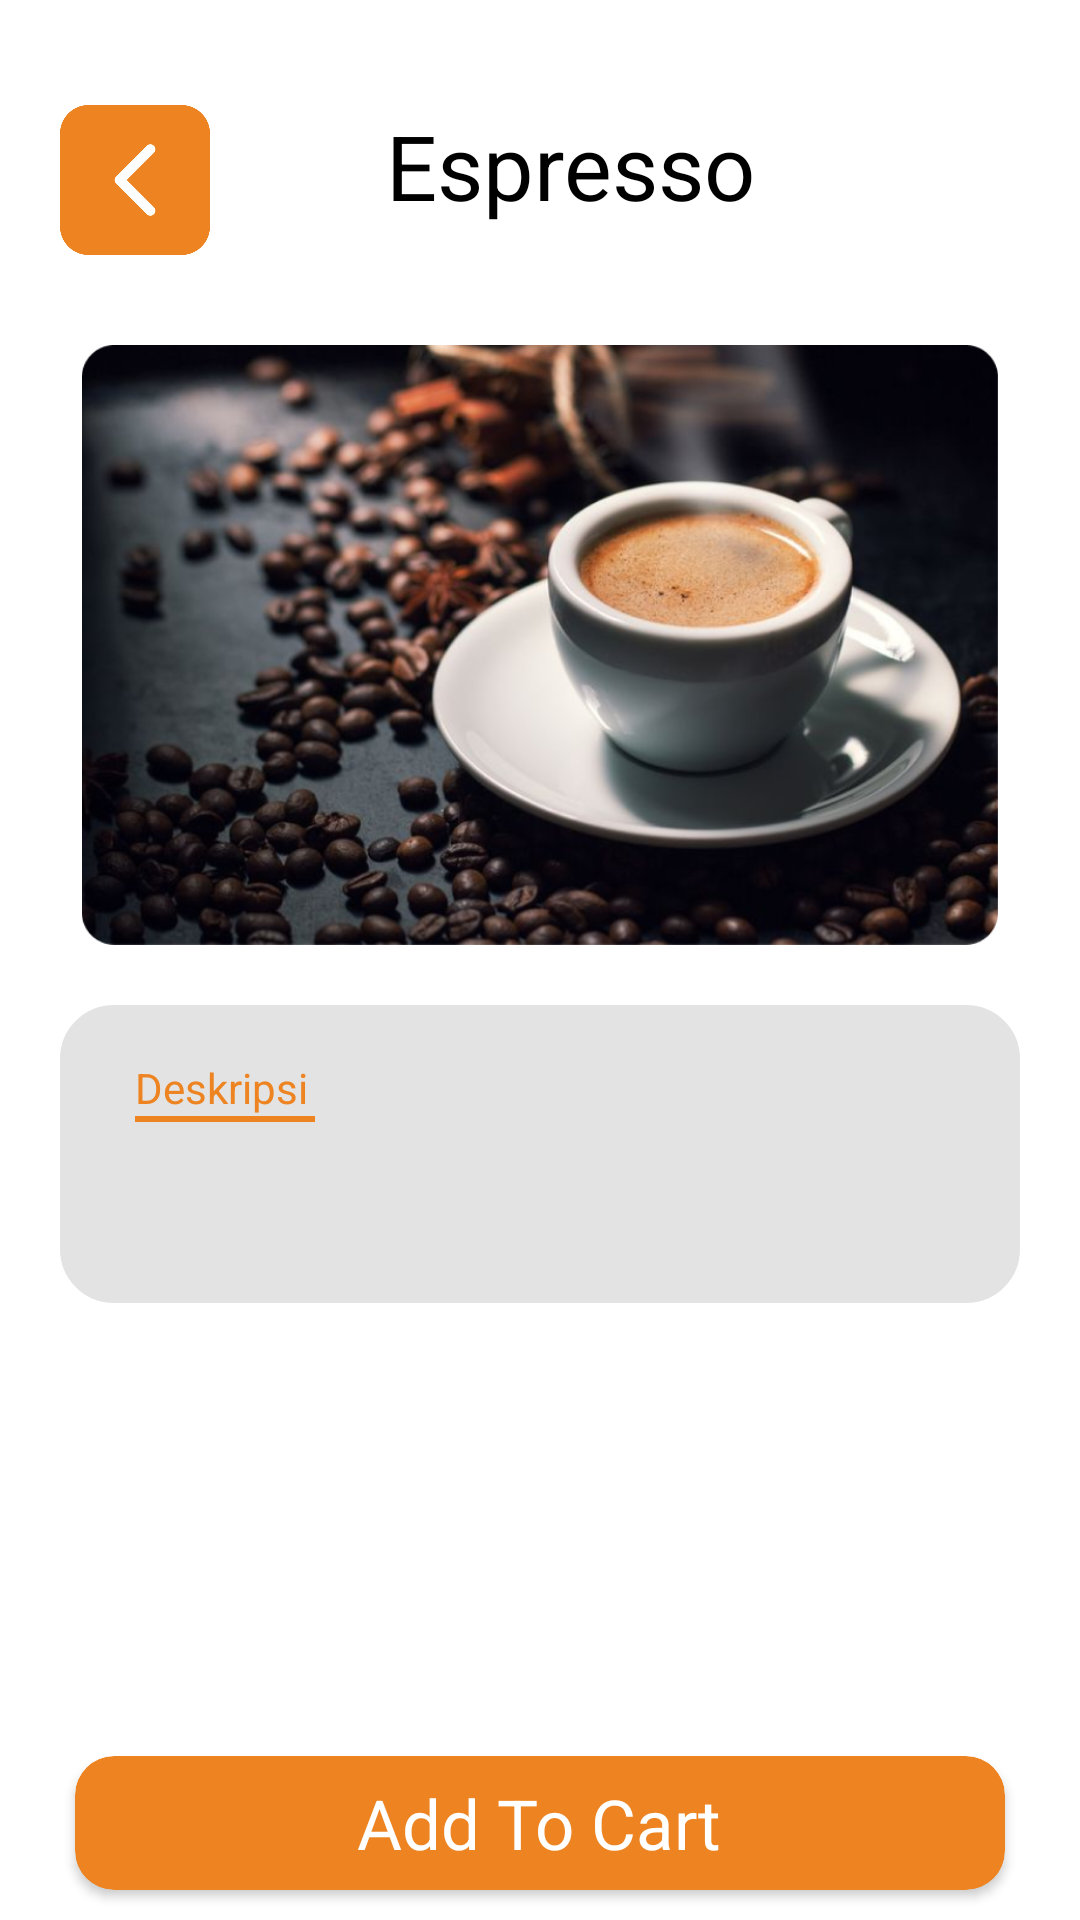

Screen size 1080px×1920px. Icon name, then its center in pixels as (x=x, y=y):
back: (x=135, y=180)
